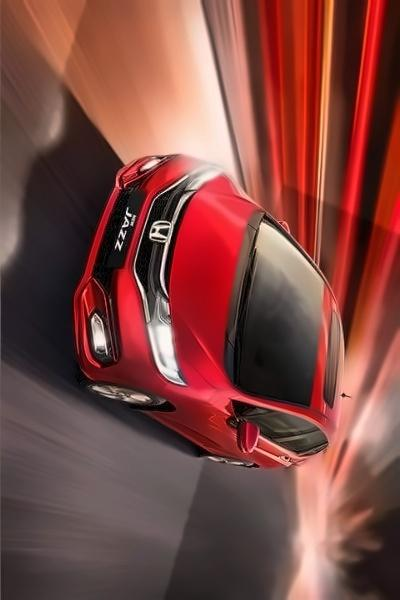Car hood: (168, 168, 262, 400)
Fender - -F-L-: (144, 352, 243, 414)
Front bumper: (68, 145, 176, 398)
Headlight - -L-: (141, 284, 191, 390)
Headlight - -R-: (182, 157, 228, 194)
Passenger-s door - -F-L-: (158, 408, 337, 440)
Passenger-s door - -R-L-: (184, 428, 340, 466)
Side bumper - -L-: (125, 401, 231, 461)
Side mirror - -L-: (233, 417, 263, 456)
Side mirror - -R-: (272, 214, 298, 242)
